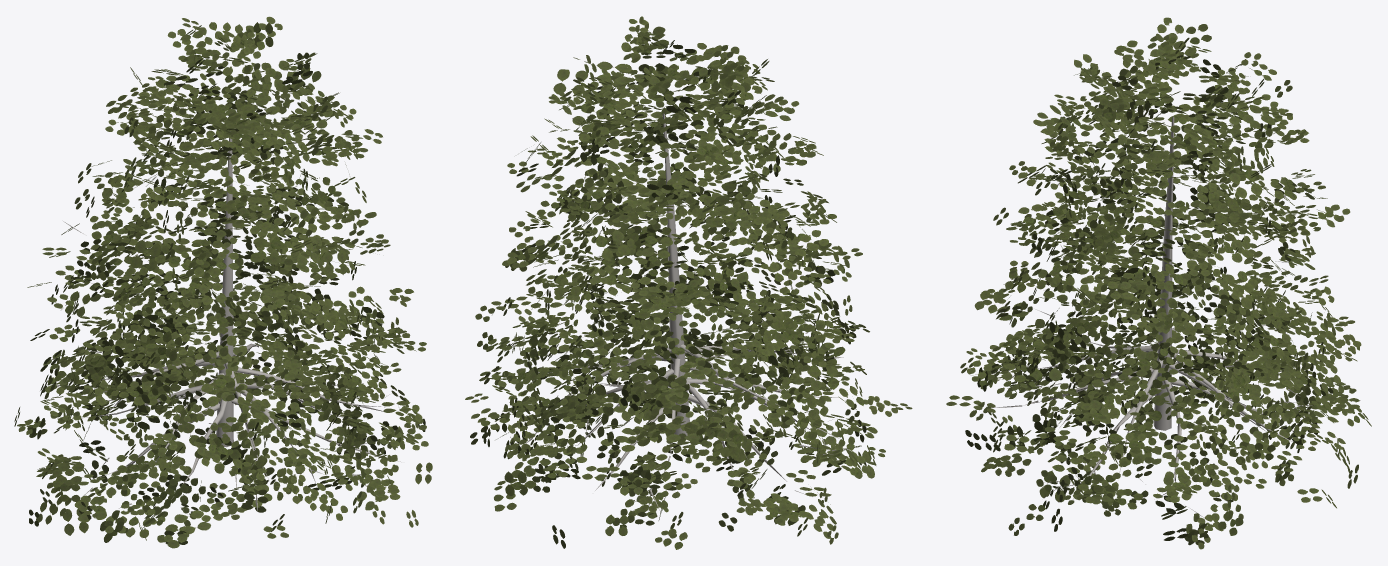
The picture shows the model from 3 angles, left to right: view 1: azimuth 30°, elevation 25°; view 2: azimuth 150°, elevation 25°; view 3: azimuth 270°, elevation 25°; orthographic projection. The views are drawn at different scales.
Visible parts, largest first — view 1: NT_PinOak_0076; view 2: NT_PinOak_0076; view 3: NT_PinOak_0076.
Boxes of the visible parts, x1=… form: NT_PinOak_0076: x1=14, y1=16, x2=432, y2=548; NT_PinOak_0076: x1=465, y1=16, x2=912, y2=549; NT_PinOak_0076: x1=946, y1=17, x2=1371, y2=549.
Bounding box in the file's own units: 18.04 × 20.75 × 17.85.
Materials: 2 (1 with a texture image).
